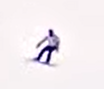snowboarder: (31, 27, 62, 67)
